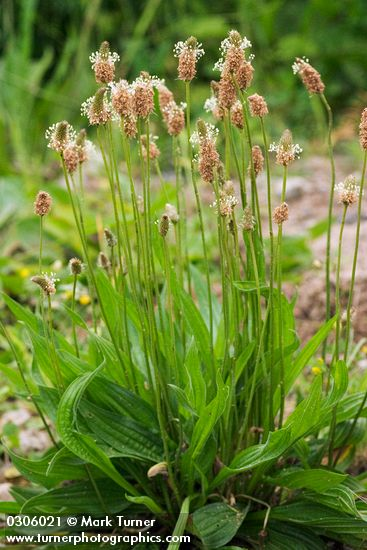buckhorn plantain: (50, 32, 367, 495)
